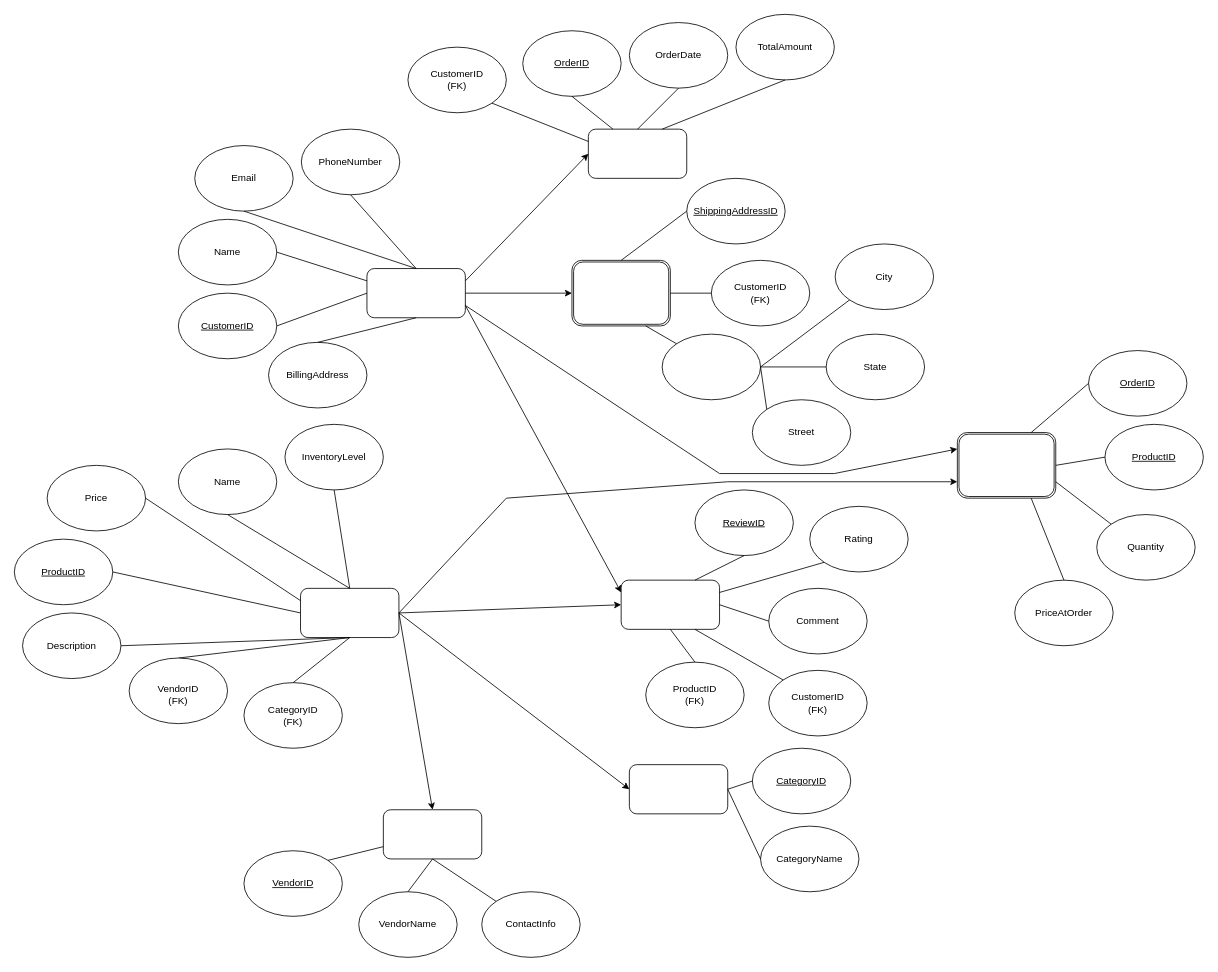
Image size: 1218x972. Some labels were removed from this diagram. The centre of each missing label's shape, as x and y in pixels:
"(Address)" belongs at pixel 711 366.
"Category" belongs at pixel 678 789.
"Customer" belongs at pixel 415 293.
"Order" belongs at pixel 637 153.
"OrderItem" belongs at pixel 1006 465.
"Product" belongs at pixel 349 613.
"Review" belongs at pixel 670 604.
"ShippingAddress" belongs at pixel 620 293.
"Vendor" belongs at pixel 432 834.
